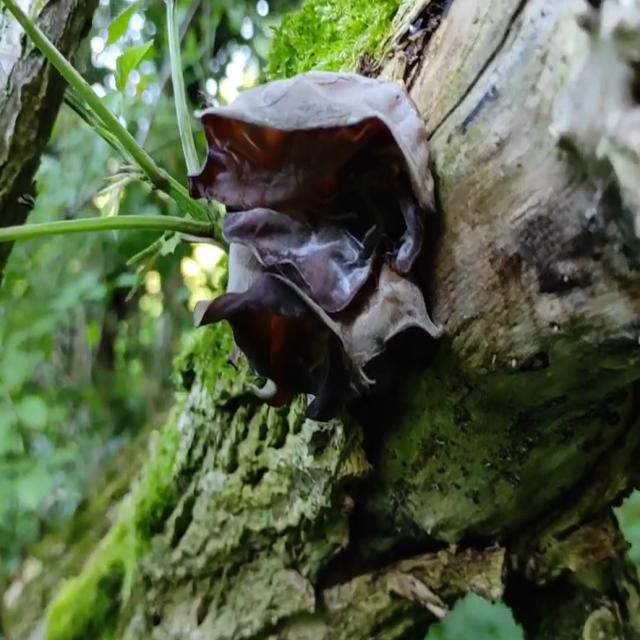Matang: (188, 76, 452, 407)
